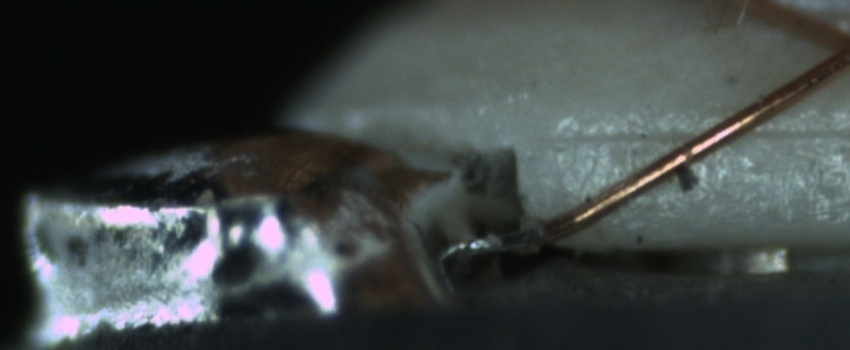CL: (805, 10, 850, 80)
DL: (552, 104, 844, 168)
TS: (456, 224, 546, 254)
